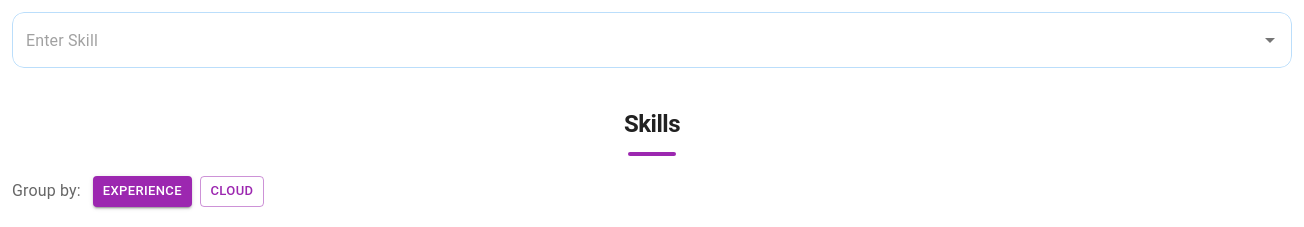
it: SkillsSection Component › Filter Type Dropdown › should open dropdown menu when icon button is clicked
The width and height of the screenshot is (1304, 227).
Click the button with test id "ArrowDropDownIcon" at (1270, 40), box left=1250, top=20, right=1290, bottom=60
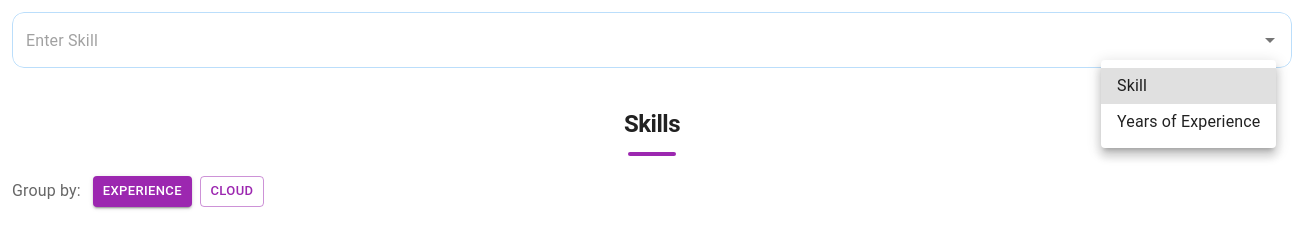
expect the menu item "Skill" is shown: met, box left=1101, top=68, right=1276, bottom=104
expect the menu item "Years of Experience" is shown: met, box left=1117, top=112, right=1260, bottom=131
